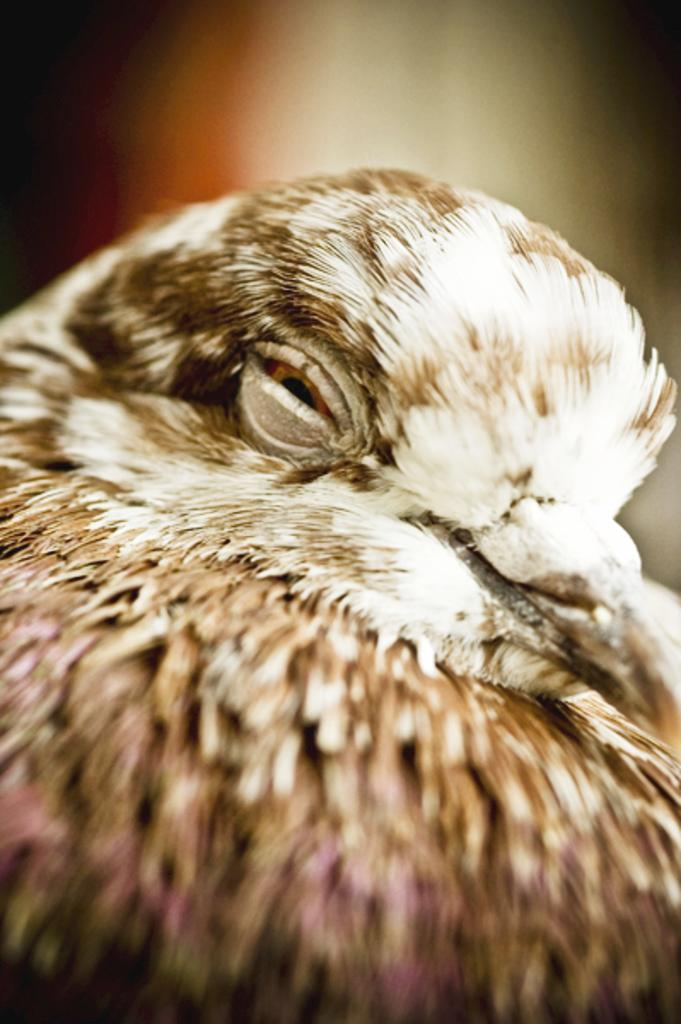Owl: (0, 158, 679, 1022)
